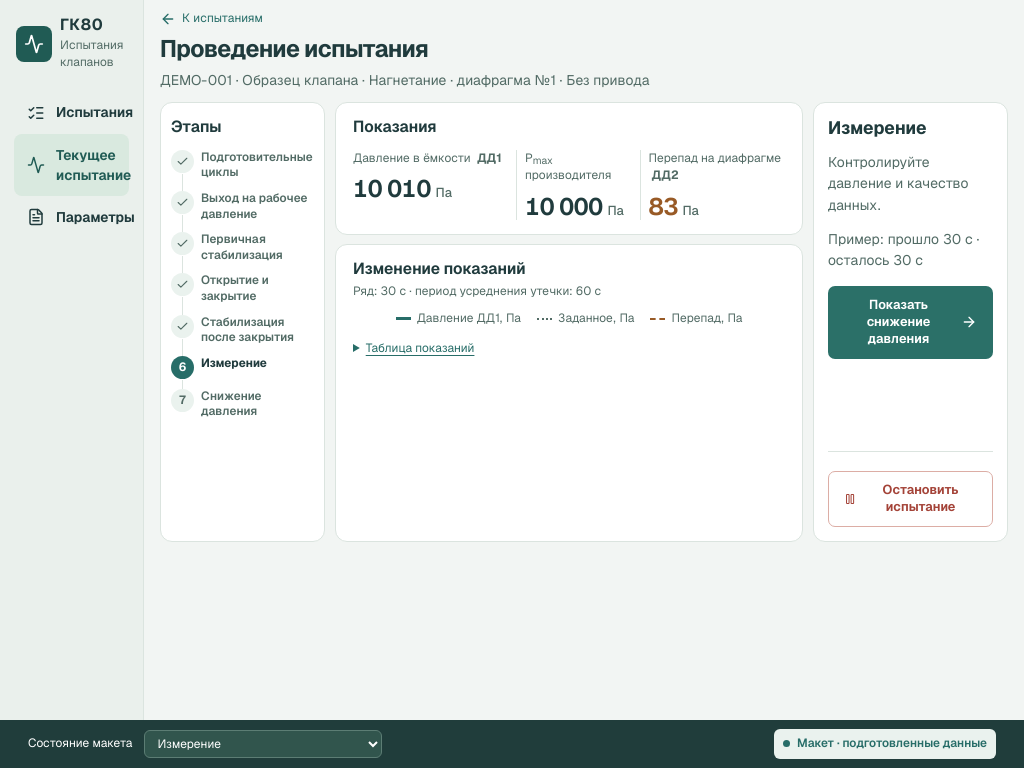
Test case: подготовленные состояния оператора › не показывает активный подготовленный пример завершённым в истории
The image size is (1024, 768).
Click the button "К испытаниям". click: click(211, 19)
box: [160,10,263,27]
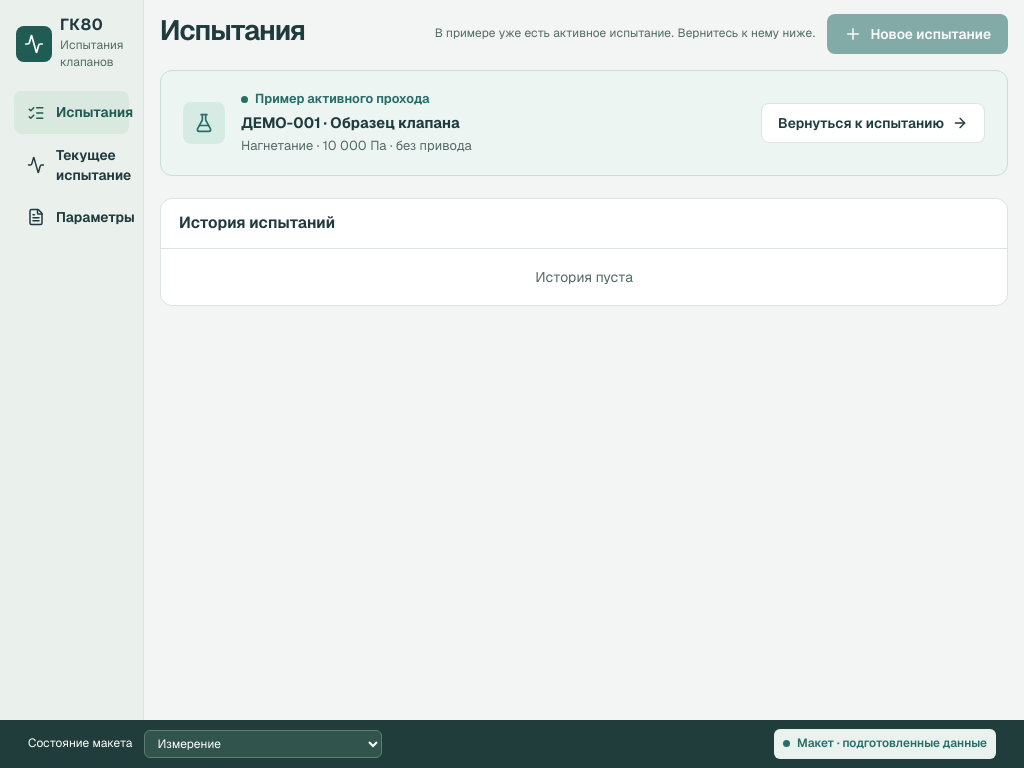
Result: the text "Пример активного прохода" is shown at [241,90,430,109]
Result: the text "История пуста" is shown at [535,266,633,287]
